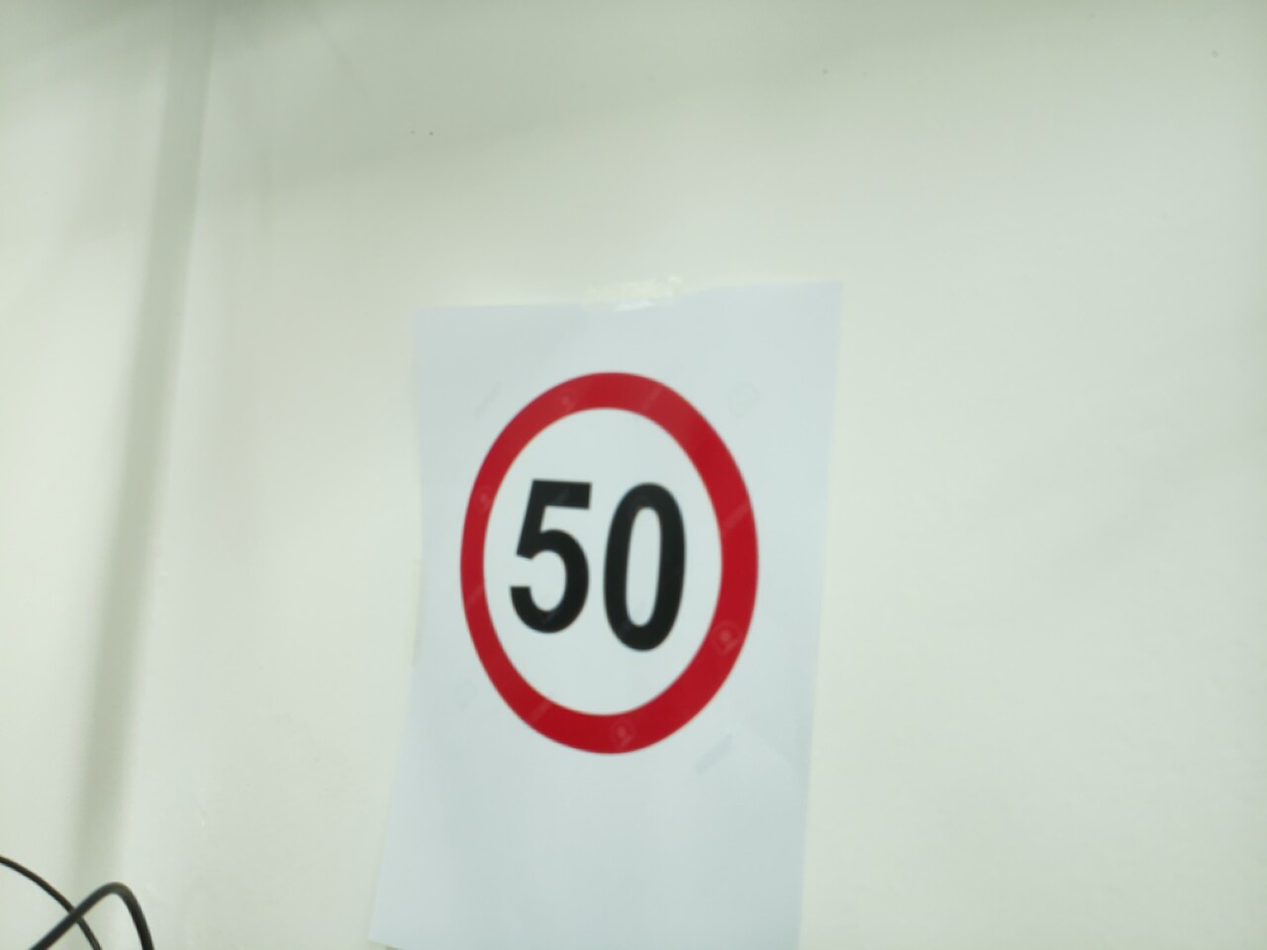speed_50: (450, 361, 768, 765)
